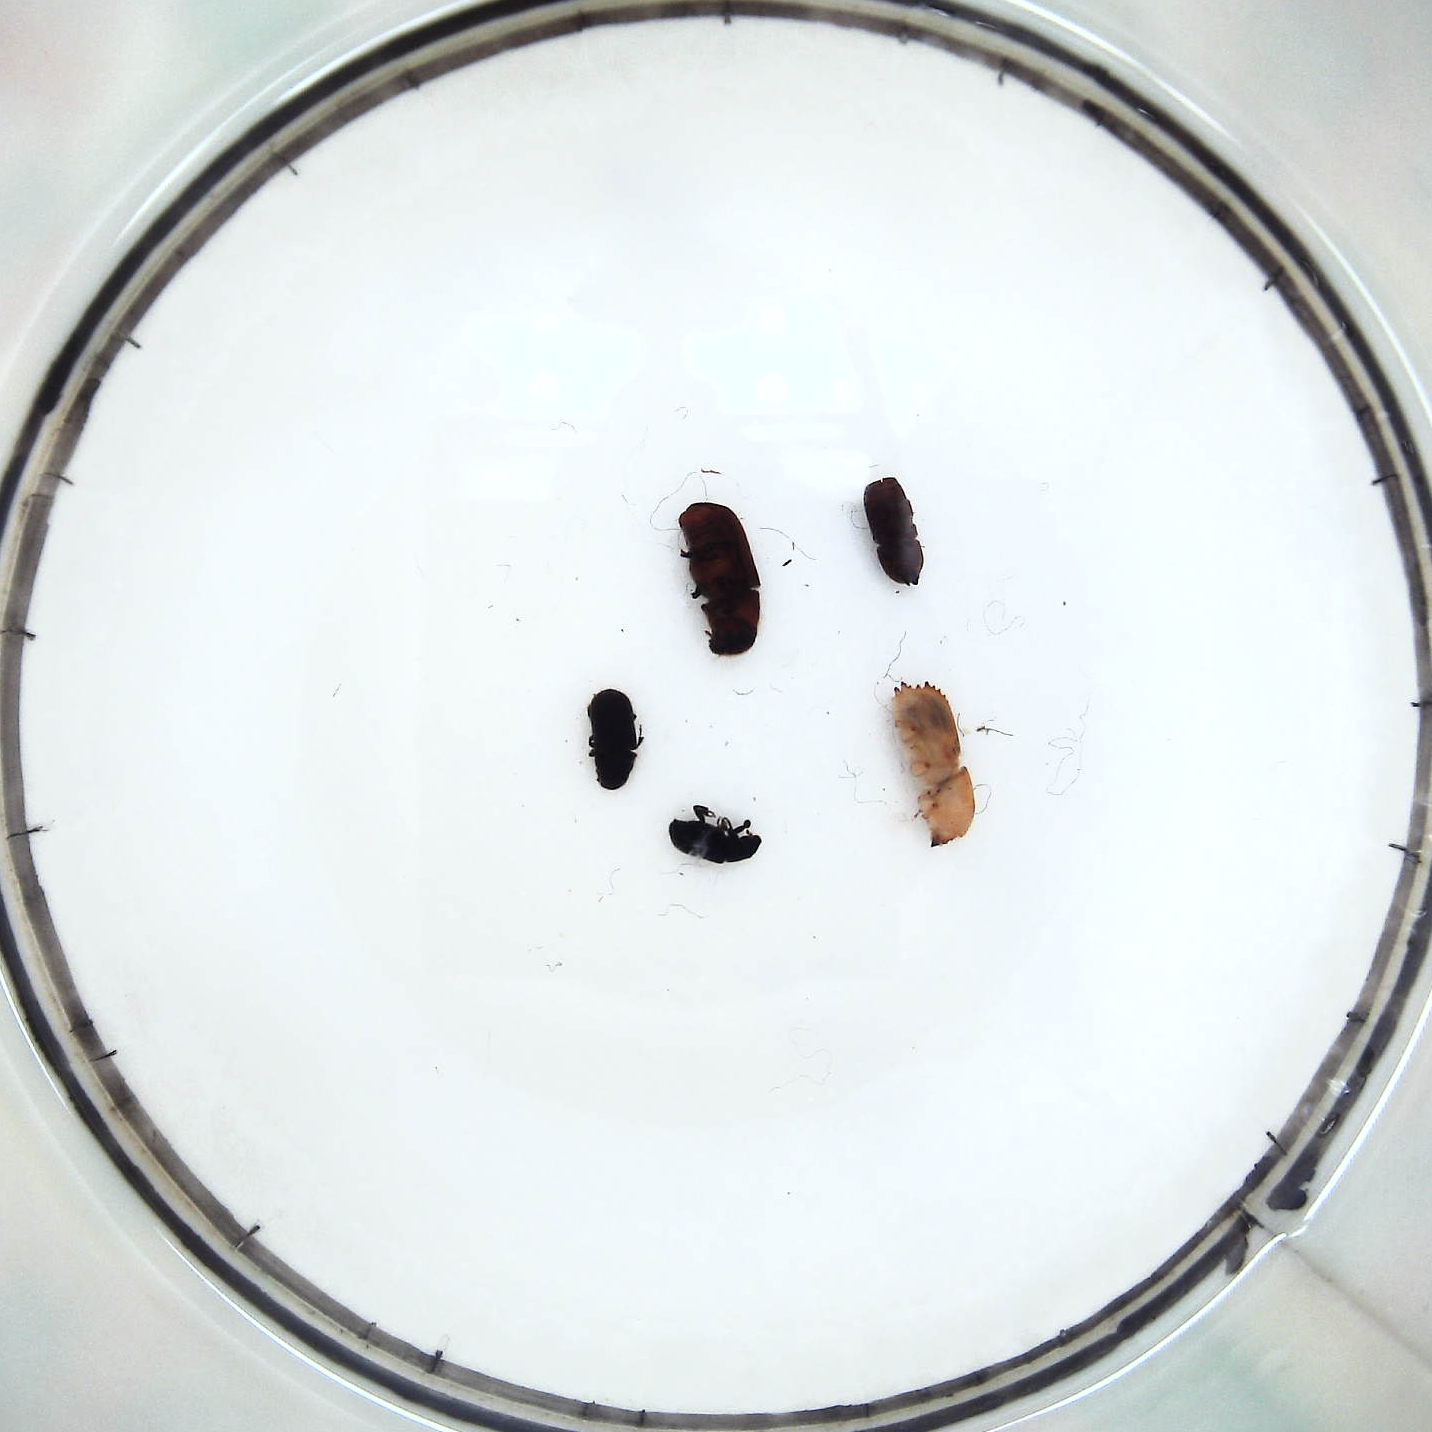Boerner: (890, 671, 978, 848)
Leconte: (675, 500, 761, 660)
Linnaeus: (863, 475, 927, 587)
armandi: (582, 685, 644, 792)
coleoptera: (670, 803, 765, 862)
